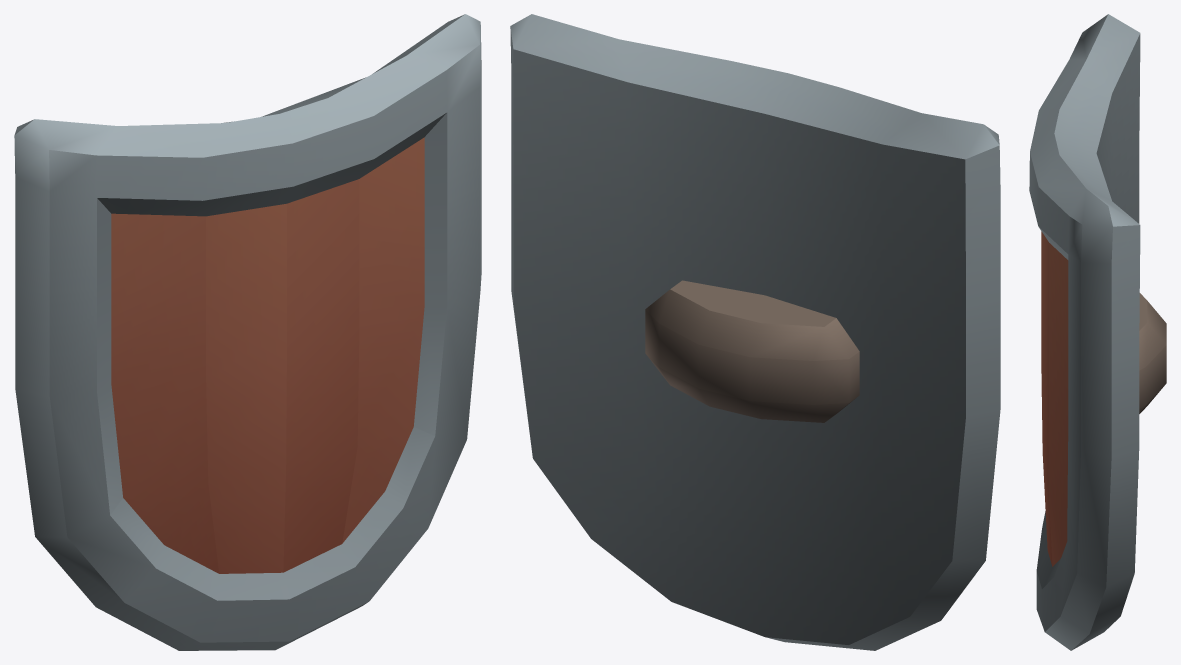
The model's file is shield_badge.obj.
3 views of the same model, side by side, from view 1: azimuth 30°, elevation 25°; view 2: azimuth 150°, elevation 25°; view 3: azimuth 270°, elevation 25° (orthographic). The views are drawn at different scales.
Parts seen in each view (by area): view 1: shield_badge; view 2: shield_badge; view 3: shield_badge.
Part boxes in pixels (bbox=[...]): shield_badge: bbox=[14, 14, 481, 650]; shield_badge: bbox=[510, 14, 1000, 650]; shield_badge: bbox=[1029, 14, 1166, 650].
Bounding box in the file's own units: 0.8826 × 1.02 × 0.2459.
Materials: 1 (1 with a texture image).
